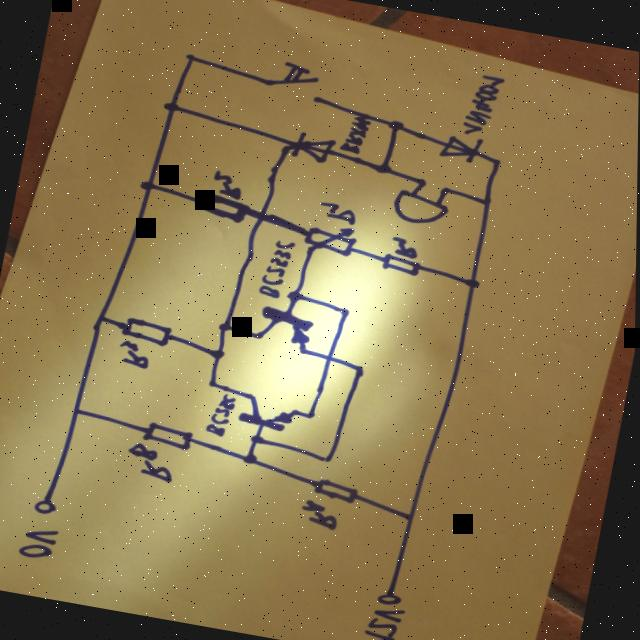crossover: (254, 208, 269, 224), (322, 351, 336, 365)
diode: (438, 132, 484, 166)
junction: (385, 118, 407, 134), (463, 276, 483, 292), (161, 99, 182, 114), (373, 161, 393, 176), (286, 289, 304, 304), (242, 451, 260, 466), (217, 320, 234, 334), (210, 348, 227, 362), (404, 510, 419, 524), (478, 195, 494, 208), (250, 434, 267, 446), (138, 180, 155, 192), (338, 306, 354, 318), (353, 363, 369, 375), (415, 176, 431, 188), (304, 409, 318, 422), (205, 378, 219, 390), (94, 312, 108, 324), (69, 405, 83, 417), (490, 156, 504, 168), (321, 454, 334, 466), (183, 52, 196, 64), (440, 186, 453, 196)
resistor: (302, 220, 359, 258), (197, 192, 254, 227), (119, 316, 175, 348), (142, 421, 195, 452), (312, 477, 361, 505), (380, 252, 424, 278)
switch: (266, 58, 324, 104)
terminal: (375, 588, 406, 608), (33, 498, 60, 518)
text: (459, 73, 506, 140), (258, 237, 297, 301), (124, 441, 179, 484), (18, 525, 61, 563), (205, 391, 238, 439), (364, 604, 408, 640), (298, 498, 342, 532), (337, 114, 372, 156), (116, 339, 154, 370), (316, 200, 359, 227), (210, 170, 246, 200), (389, 236, 421, 260)
thyristor: (279, 128, 338, 166)
transistor: (254, 305, 316, 356), (236, 392, 302, 434)
